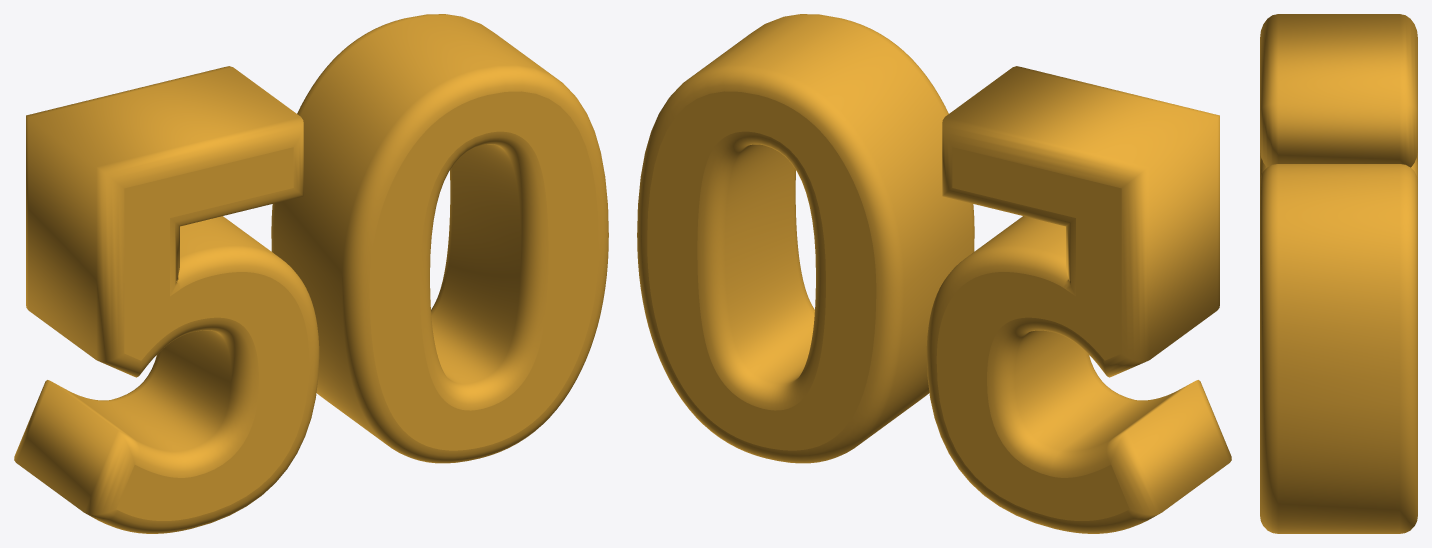
3 renders of one model, left to right at view 1: azimuth 30°, elevation 25°; view 2: azimuth 150°, elevation 25°; view 3: azimuth 270°, elevation 25°, orthographic. The views are drawn at different scales.
Visible parts, largest first — view 1: Text; view 2: Text; view 3: Text.
Part boxes in pixels (x1,y1,x2,y2): Text: (14, 14, 608, 533); Text: (637, 14, 1231, 533); Text: (1260, 14, 1417, 533).
Size of the model in its own units: 88.84 by 63.03 by 26.
